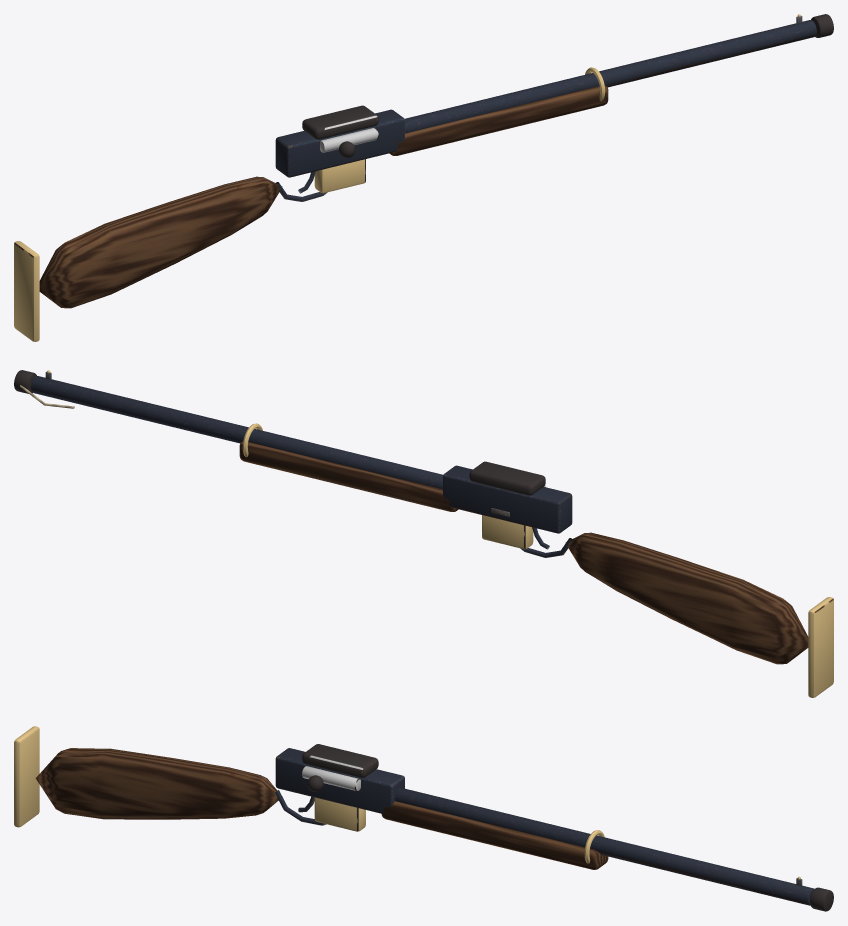
File: carbine.glb
3 views of the same model, one above another, from view 1: azimuth 30°, elevation 25°; view 2: azimuth 150°, elevation 25°; view 3: azimuth 330°, elevation 25° (orthographic).
Visible parts, largest first — view 1: stock, barrel, fore_end, receiver, butt_plate, breech_cover, clip, bolt; view 2: stock, barrel, receiver, fore_end, butt_plate, breech_cover, clip; view 3: stock, barrel, fore_end, receiver, butt_plate, breech_cover, clip, bolt, muzzle_cap.
Part boxes in pixels (<box>): stock: <box>39,176,282,308</box>; barrel: <box>405,20,816,133</box>; fore_end: <box>389,85,608,155</box>; receiver: <box>275,109,404,177</box>; butt_plate: <box>14,241,39,341</box>; breech_cover: <box>302,105,378,139</box>; clip: <box>314,159,365,193</box>; bolt: <box>320,127,378,152</box>; stock: <box>565,532,808,664</box>; barrel: <box>31,376,442,489</box>; receiver: <box>443,465,572,533</box>; fore_end: <box>239,441,458,511</box>; butt_plate: <box>808,597,833,697</box>; breech_cover: <box>469,461,545,495</box>; clip: <box>482,515,533,549</box>; stock: <box>35,748,282,819</box>; barrel: <box>395,787,814,905</box>; fore_end: <box>381,801,608,869</box>; receiver: <box>275,748,404,813</box>; butt_plate: <box>14,726,39,827</box>; breech_cover: <box>302,744,378,777</box>; clip: <box>314,797,365,831</box>; bolt: <box>302,766,360,791</box>; muzzle_cap: <box>810,887,833,911</box>.
Size of the model in its own units: 0.887 by 0.149 by 0.058.
1 material, 1 textured.
